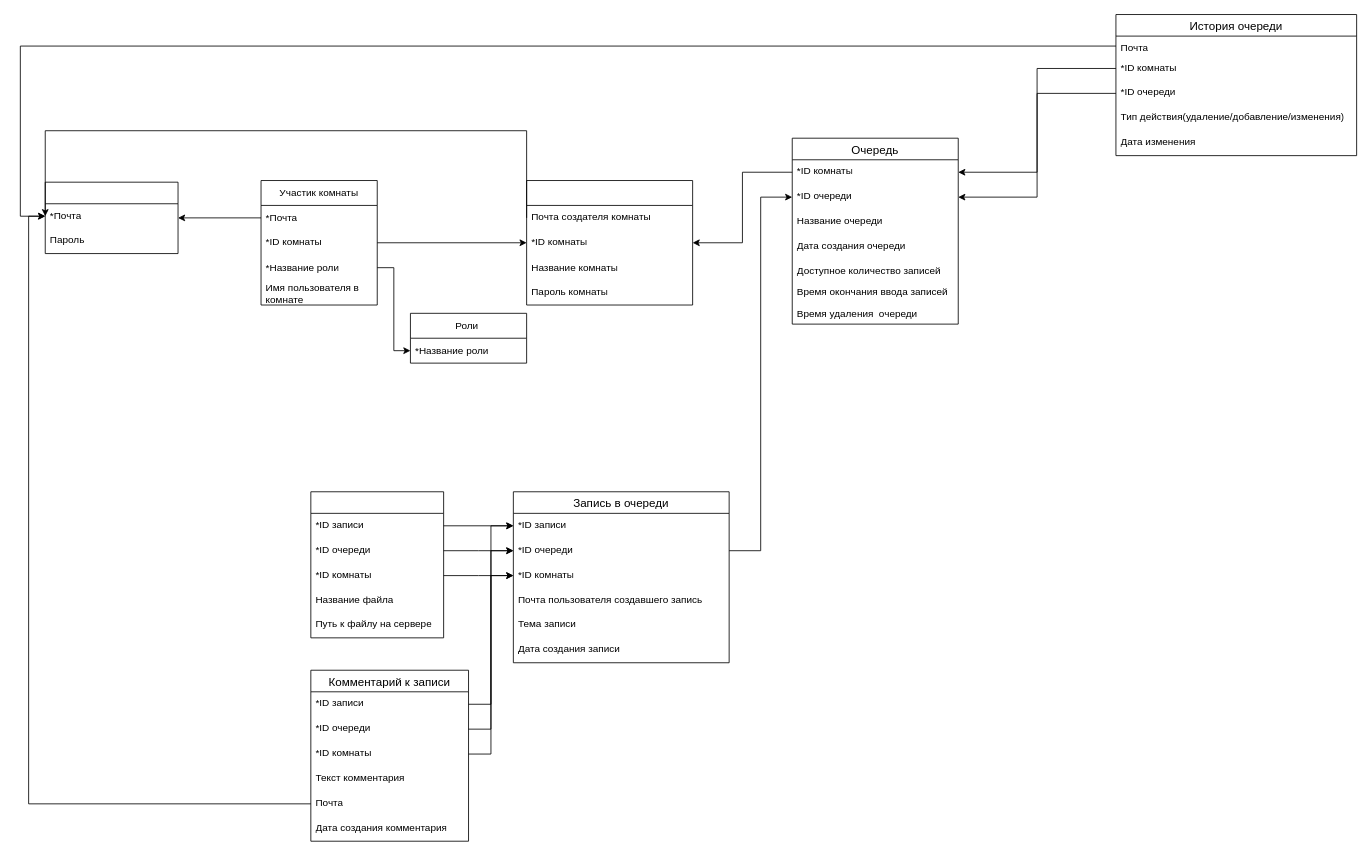
This 1371x858 diagram has some shape labels left out. Here are the shapes that lost their labels. From the top down, the box of each, then its label:
(44, 181, 178, 254): Пользователь
(526, 180, 693, 305): Комната
(310, 491, 444, 638): Файл к записи
